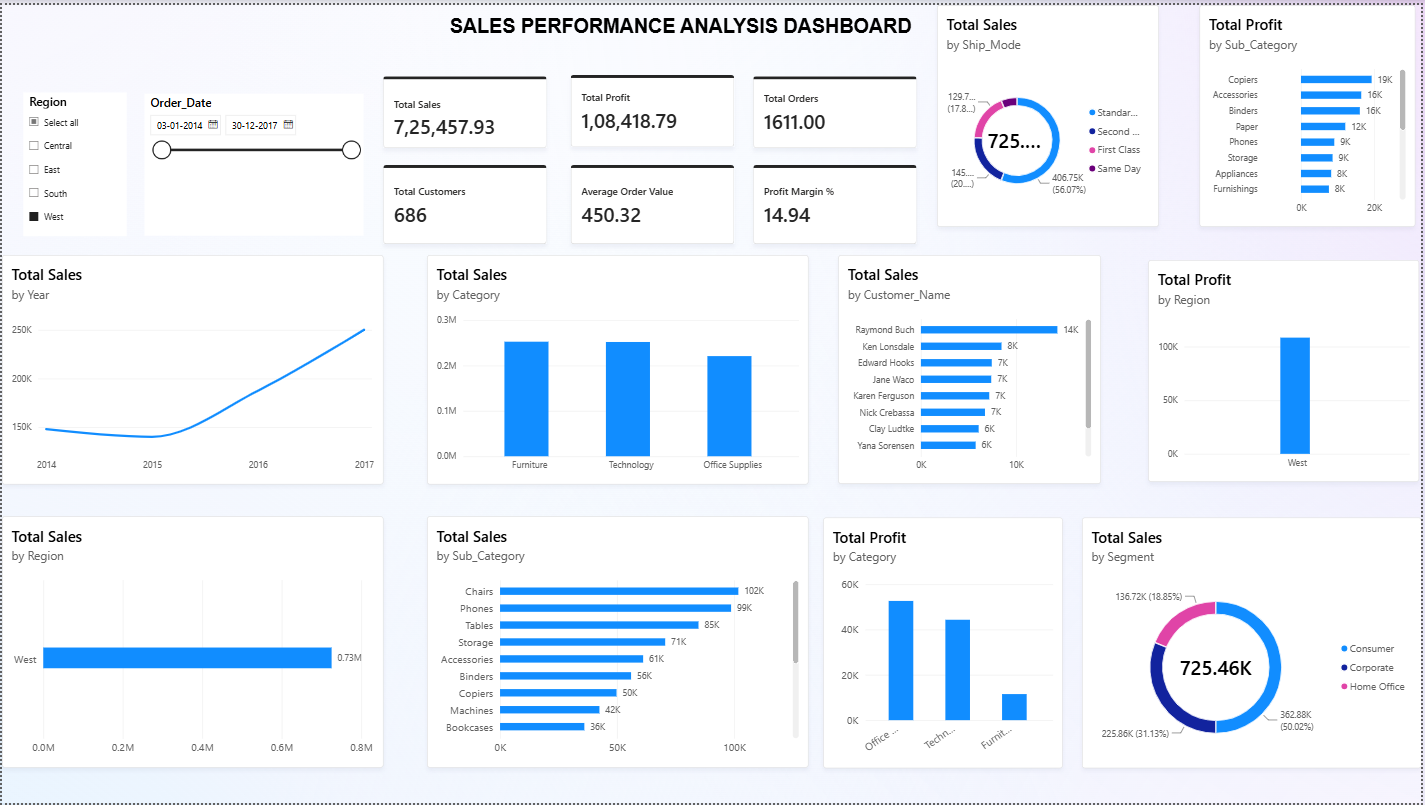

This screenshot's page, from the dashboard's own definition file:
{"tool":"powerbi","page":{"name":"Page 1","canvas":[1920,1080],"ordinal":0},"visuals":[{"type":"cardVisual","fields":{"Data":["salesanalysisdb salesdata.Total Profit"]},"box":[255.8,95.8,221.7,97.5],"z":0},{"type":"cardVisual","fields":{"Data":["salesanalysisdb salesdata.Total Sales"]},"box":[0,95.8,221.7,97.5],"z":1000},{"type":"cardVisual","fields":{"Data":["salesanalysisdb salesdata.Total Orders"]},"box":[515.8,95.8,221.7,97.5],"z":2000},{"type":"cardVisual","fields":{"Data":["salesanalysisdb salesdata.Profit Margin %"]},"box":[515.8,216.7,221.7,107.5],"z":3000},{"type":"cardVisual","fields":{"Data":["salesanalysisdb salesdata.Total Customers"]},"box":[0,216.7,221.7,107.5],"z":4000},{"type":"cardVisual","fields":{"Data":["salesanalysisdb salesdata.Average Order Value"]},"box":[255.8,216.7,221.7,107.5],"z":5000},{"type":"lineChart","fields":{"Category":["salesanalysisdb salesdata.Order_Date.Variation.Date Hierarchy.Year"],"Y":["salesanalysisdb salesdata.Total Sales"]},"box":[0,338,516,310],"z":6000},{"type":"clusteredBarChart","fields":{"Category":["salesanalysisdb salesdata.Region"],"Y":["salesanalysisdb salesdata.Total Sales"]},"box":[0,692,516,340],"z":7000},{"type":"clusteredColumnChart","fields":{"Category":["salesanalysisdb salesdata.Category"],"Y":["salesanalysisdb salesdata.Total Sales"]},"box":[574,338,516,310],"z":8000},{"type":"clusteredColumnChart","fields":{"Category":["salesanalysisdb salesdata.Category"],"Y":["salesanalysisdb salesdata.Total Profit"]},"box":[1111.1,692.6,324.1,338.9],"z":9000},{"type":"clusteredBarChart","fields":{"Category":["salesanalysisdb salesdata.Sub_Category"],"Y":["salesanalysisdb salesdata.Total Sales"]},"box":[574,692,516,340],"z":10000},{"type":"donutChart","fields":{"Category":["salesanalysisdb salesdata.Segment"],"Y":["salesanalysisdb salesdata.Total Sales"]},"box":[1461.1,692.6,459.3,338.9],"z":11000},{"type":"clusteredColumnChart","fields":{"Category":["salesanalysisdb salesdata.Region"],"Y":["salesanalysisdb salesdata.Total Profit"]},"box":[1550,344.4,366.7,300],"z":12000},{"type":"donutChart","fields":{"Category":["salesanalysisdb salesdata.Ship_Mode"],"Y":["salesanalysisdb salesdata.Total Sales"]},"box":[1264,0,300,300],"z":13000},{"type":"clusteredBarChart","fields":{"Category":["salesanalysisdb salesdata.Sub_Category"],"Y":["salesanalysisdb salesdata.Total Profit"]},"box":[1620.4,0,292,300],"z":14000},{"type":"slicer","fields":{"Values":["salesanalysisdb salesdata.Region"]},"box":[759.3,13,144,180],"z":15000},{"type":"slicer","fields":{"Values":["salesanalysisdb salesdata.Order_Date"]},"box":[959.3,14.8,214.2,162.5],"z":16000},{"type":"clusteredBarChart","fields":{"Category":["salesanalysisdb salesdata.Customer_Name"],"Y":["salesanalysisdb salesdata.Total Sales"]},"box":[1131.5,338.9,355.6,309.3],"z":17000},{"type":"textbox","box":[51.7,13.3,615,57.5],"z":17001}]}

Visuals, with their boxes in screenshot pixels (x1, y1, x2, y2), scaled from the page's 1920x1080 canvas onto the 1425x805 screenshot:
cardVisual - salesanalysisdb salesdata.Total Profit: (left=190, top=71, right=354, bottom=144)
cardVisual - salesanalysisdb salesdata.Total Sales: (left=0, top=71, right=165, bottom=144)
cardVisual - salesanalysisdb salesdata.Total Orders: (left=383, top=71, right=547, bottom=144)
cardVisual - salesanalysisdb salesdata.Profit Margin %: (left=383, top=162, right=547, bottom=242)
cardVisual - salesanalysisdb salesdata.Total Customers: (left=0, top=162, right=165, bottom=242)
cardVisual - salesanalysisdb salesdata.Average Order Value: (left=190, top=162, right=354, bottom=242)
lineChart - salesanalysisdb salesdata.Order_Date.Variation.Date Hierarchy.Year x salesanalysisdb salesdata.Total Sales: (left=0, top=252, right=383, bottom=483)
clusteredBarChart - salesanalysisdb salesdata.Region x salesanalysisdb salesdata.Total Sales: (left=0, top=516, right=383, bottom=769)
clusteredColumnChart - salesanalysisdb salesdata.Category x salesanalysisdb salesdata.Total Sales: (left=426, top=252, right=809, bottom=483)
clusteredColumnChart - salesanalysisdb salesdata.Category x salesanalysisdb salesdata.Total Profit: (left=825, top=516, right=1065, bottom=769)
clusteredBarChart - salesanalysisdb salesdata.Sub_Category x salesanalysisdb salesdata.Total Sales: (left=426, top=516, right=809, bottom=769)
donutChart - salesanalysisdb salesdata.Segment x salesanalysisdb salesdata.Total Sales: (left=1084, top=516, right=1424, bottom=769)
clusteredColumnChart - salesanalysisdb salesdata.Region x salesanalysisdb salesdata.Total Profit: (left=1150, top=257, right=1423, bottom=480)
donutChart - salesanalysisdb salesdata.Ship_Mode x salesanalysisdb salesdata.Total Sales: (left=938, top=0, right=1161, bottom=224)
clusteredBarChart - salesanalysisdb salesdata.Sub_Category x salesanalysisdb salesdata.Total Profit: (left=1203, top=0, right=1419, bottom=224)
slicer - salesanalysisdb salesdata.Region: (left=564, top=10, right=670, bottom=144)
slicer - salesanalysisdb salesdata.Order_Date: (left=712, top=11, right=871, bottom=132)
clusteredBarChart - salesanalysisdb salesdata.Customer_Name x salesanalysisdb salesdata.Total Sales: (left=840, top=253, right=1104, bottom=483)
textbox: (left=38, top=10, right=495, bottom=53)
